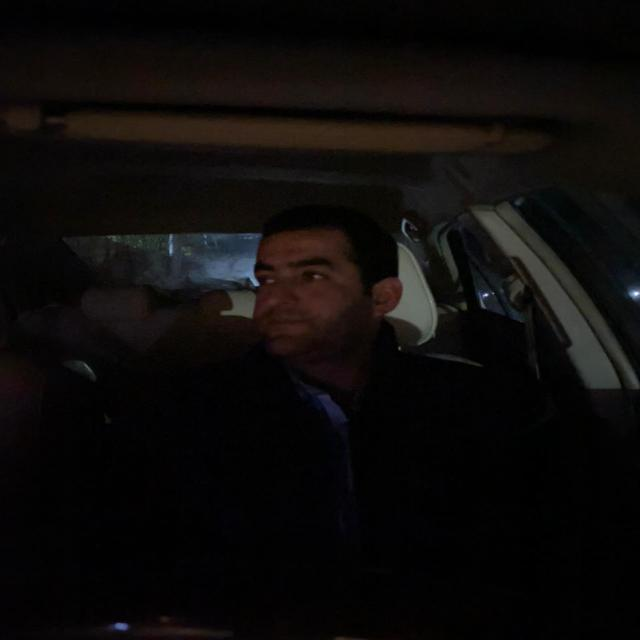person: (237, 222, 408, 356)
